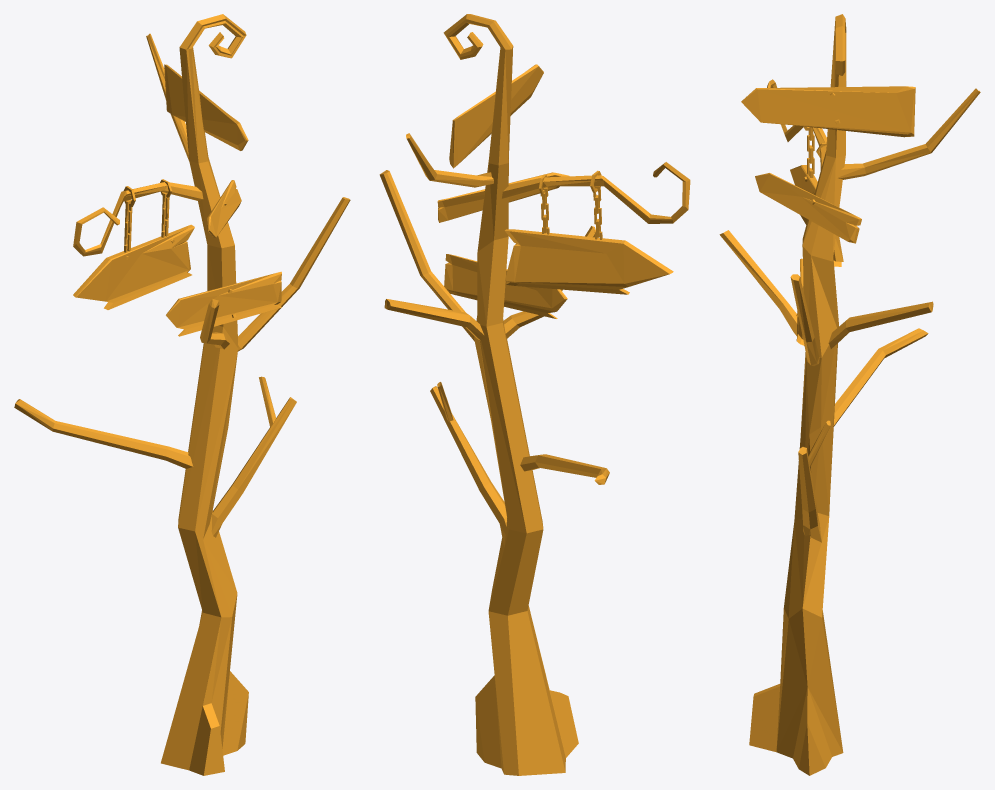
Rendered from SM_Signpost_E_Fantasy.fbx.
3 views of the same model, side by side, from view 1: azimuth 30°, elevation 25°; view 2: azimuth 150°, elevation 25°; view 3: azimuth 270°, elevation 25° (orthographic). The views are drawn at different scales.
Parts seen in each view (by area): view 1: signpost-e-fantasy; view 2: signpost-e-fantasy; view 3: signpost-e-fantasy.
Boxes of the visible parts, x1=… form: signpost-e-fantasy: x1=14, y1=14, x2=350, y2=775; signpost-e-fantasy: x1=379, y1=14, x2=690, y2=775; signpost-e-fantasy: x1=719, y1=14, x2=980, y2=775.
Bounding box in the file's own units: 1.31 × 3.15 × 1.
